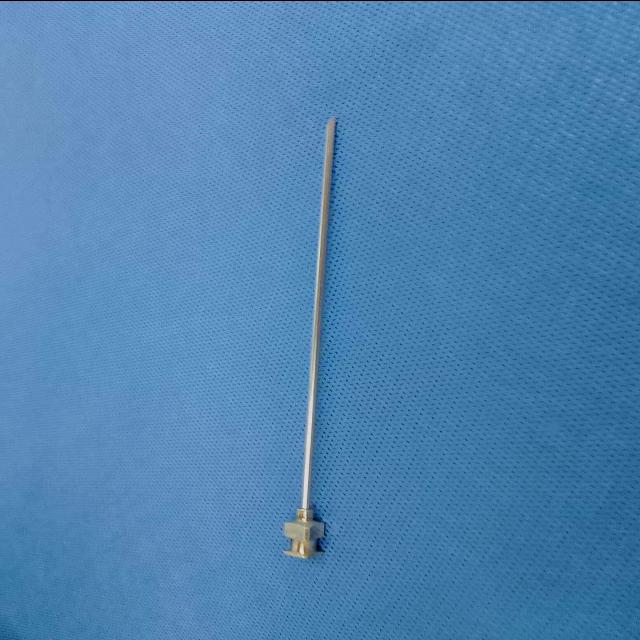Pathological: (3, 2, 636, 637)
Sharps: (280, 114, 338, 558)
